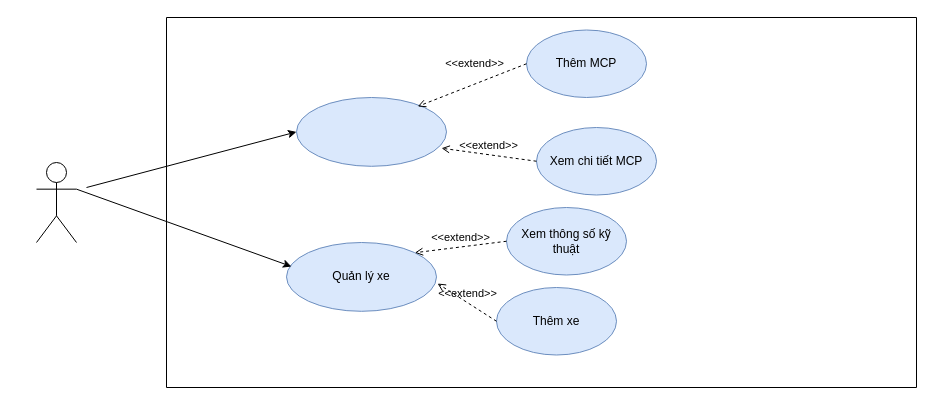
Some shapes in this 934 by 405 pixel diagram are drawn without their labels. Each missing label, with the centre of its shape:
"Admin (Back Officers)" goes at (x=56, y=202).
"Xem bản đồ MCPs" goes at (x=371, y=131).
